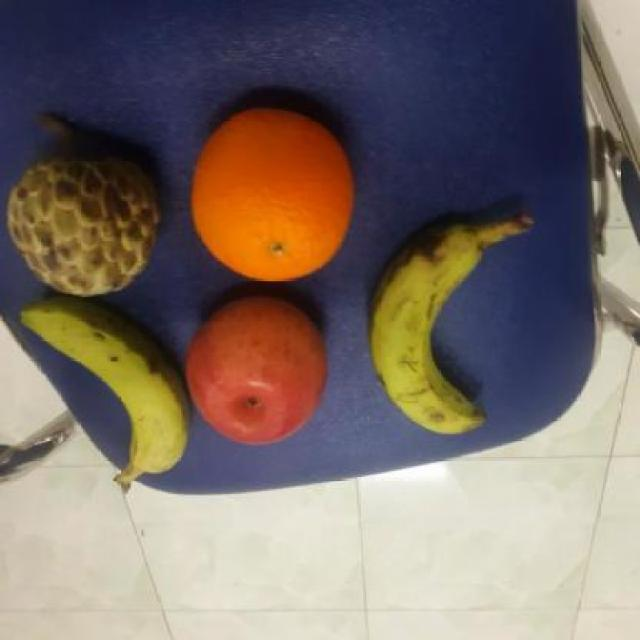apple: (185, 290, 333, 447)
banana: (13, 295, 196, 480), (366, 220, 505, 438)
oren: (187, 102, 356, 286)
sugar apple: (4, 150, 167, 299)
